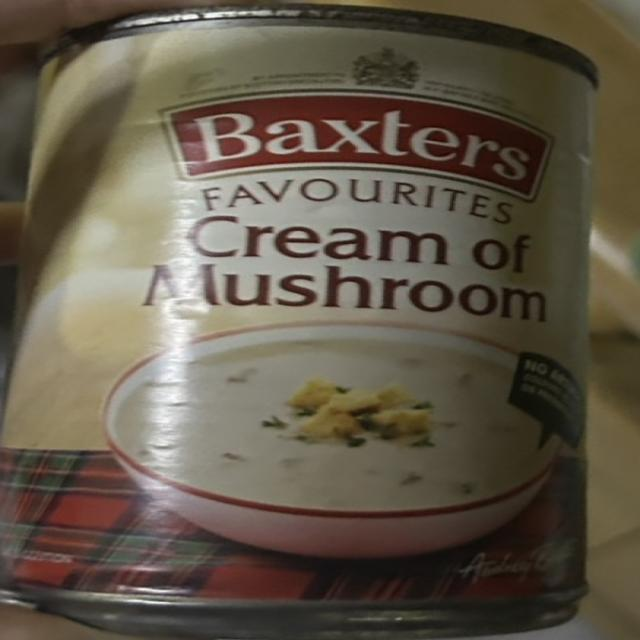can: (21, 0, 640, 622)
